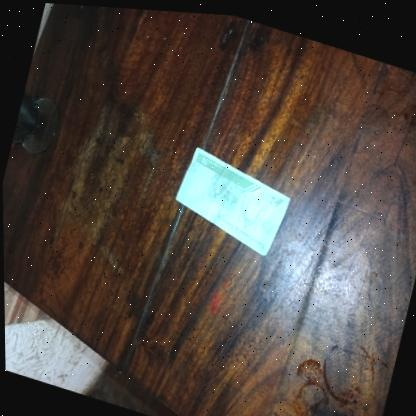fifty-back-vef: (166, 141, 295, 257)
